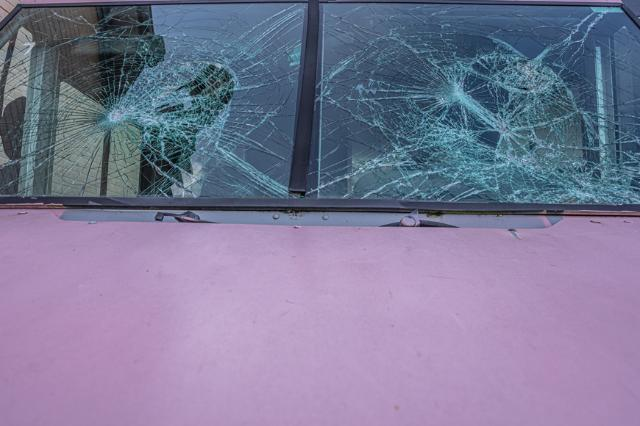Windshield: (0, 0, 640, 205)
